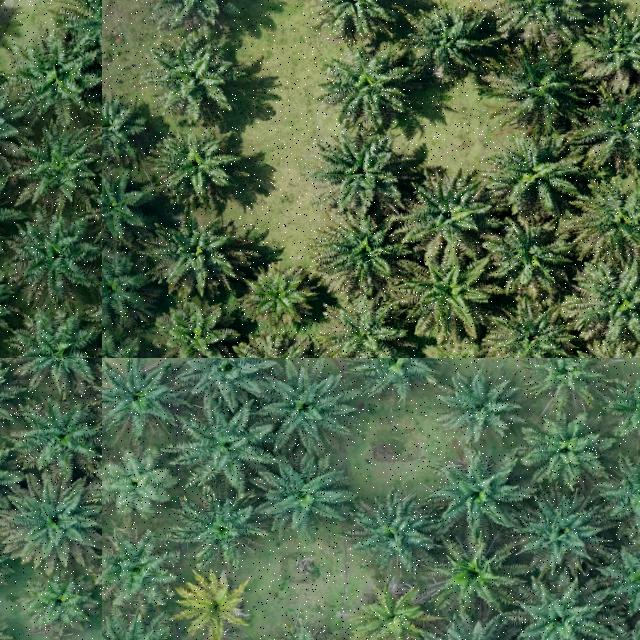Ganoderma: (185, 580, 246, 634), (362, 592, 422, 640), (446, 550, 502, 601)
